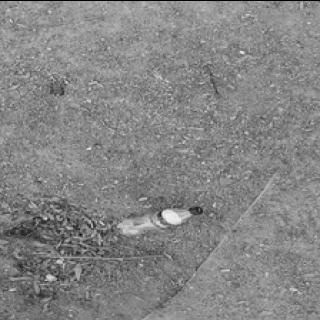plastic_bottles: (113, 197, 210, 240)
